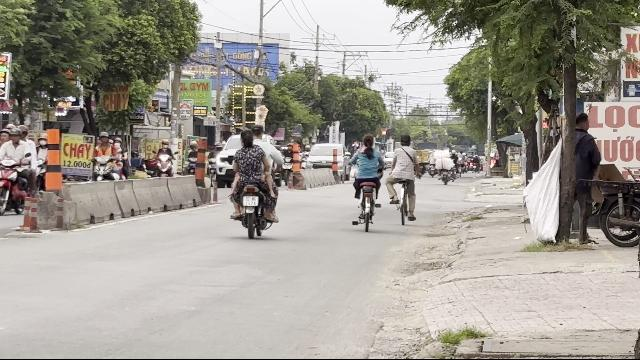licenseplate: (242, 196, 258, 206)
motorcyclist: (226, 123, 282, 237)
nohelmet: (251, 124, 265, 142), (240, 128, 254, 146)
